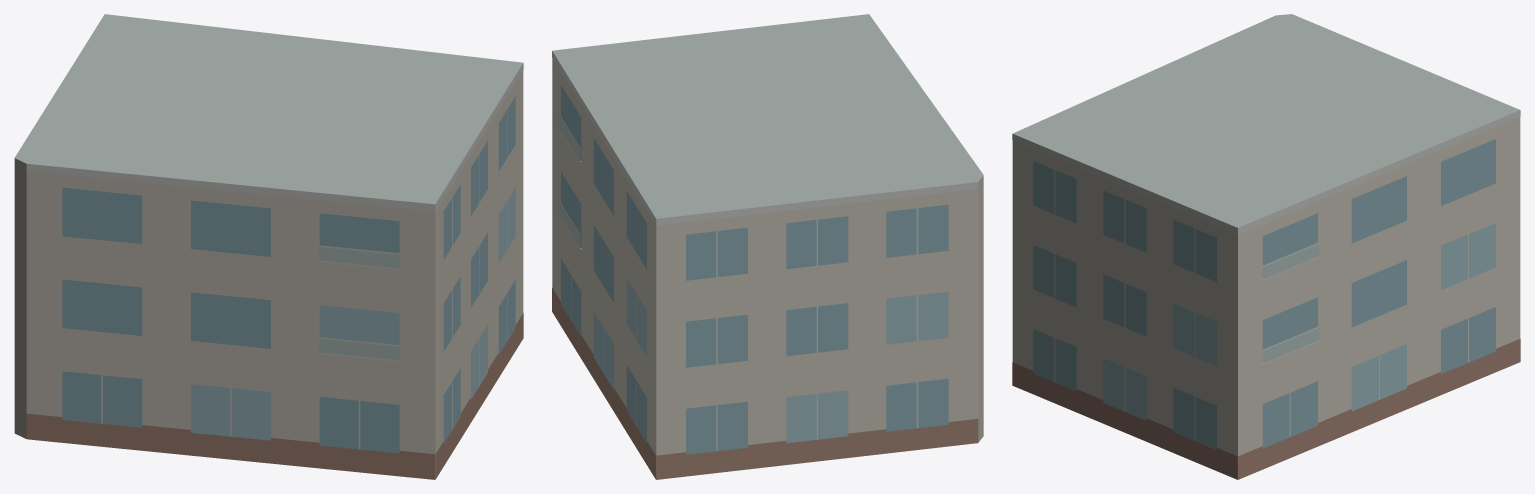
Rendered from survey-upis-32694343.glb.
3 views of the same model, side by side, from view 1: azimuth 30°, elevation 25°; view 2: azimuth 150°, elevation 25°; view 3: azimuth 270°, elevation 25° (orthographic). The views are drawn at different scales.
Parts seen in each view (by area): view 1: survey-upis-32694343.tmp; view 2: survey-upis-32694343.tmp; view 3: survey-upis-32694343.tmp.
Part boxes in pixels (x1,y1,x2,y2): survey-upis-32694343.tmp: [14, 14, 523, 479]; survey-upis-32694343.tmp: [552, 14, 983, 479]; survey-upis-32694343.tmp: [1012, 14, 1520, 479].
Bounding box in the file's own units: 16.67 × 9.15 × 16.73.
